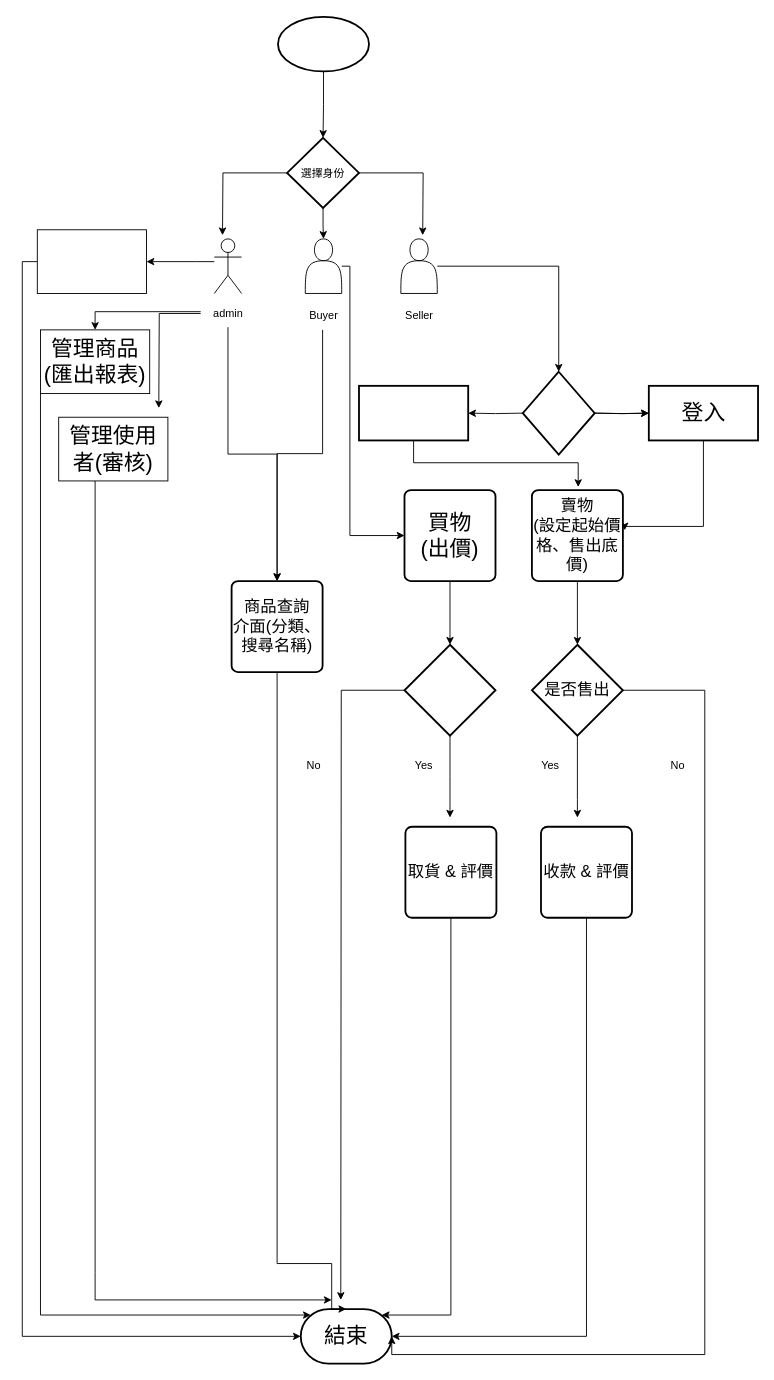
The diagram is 774 pixels wide and 1380 high, and some of its shapes have lost their labels. The shapes that lost their labels are listed below. From the top down, each one's box as (x1, y1, x2, y2) in pixels, then its label:
(277, 15, 369, 72): 開始
(36, 229, 147, 293): 新增商品分類目錄
(358, 384, 469, 441): 註冊
(521, 370, 595, 455): 是否有會員
(403, 643, 496, 736): 是否得標
